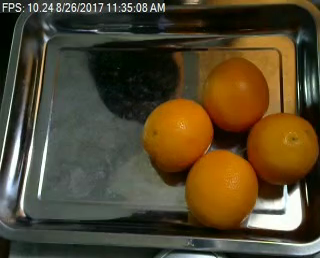Orange: (184, 148, 256, 228), (201, 56, 270, 131), (245, 112, 316, 184), (143, 98, 212, 171)
